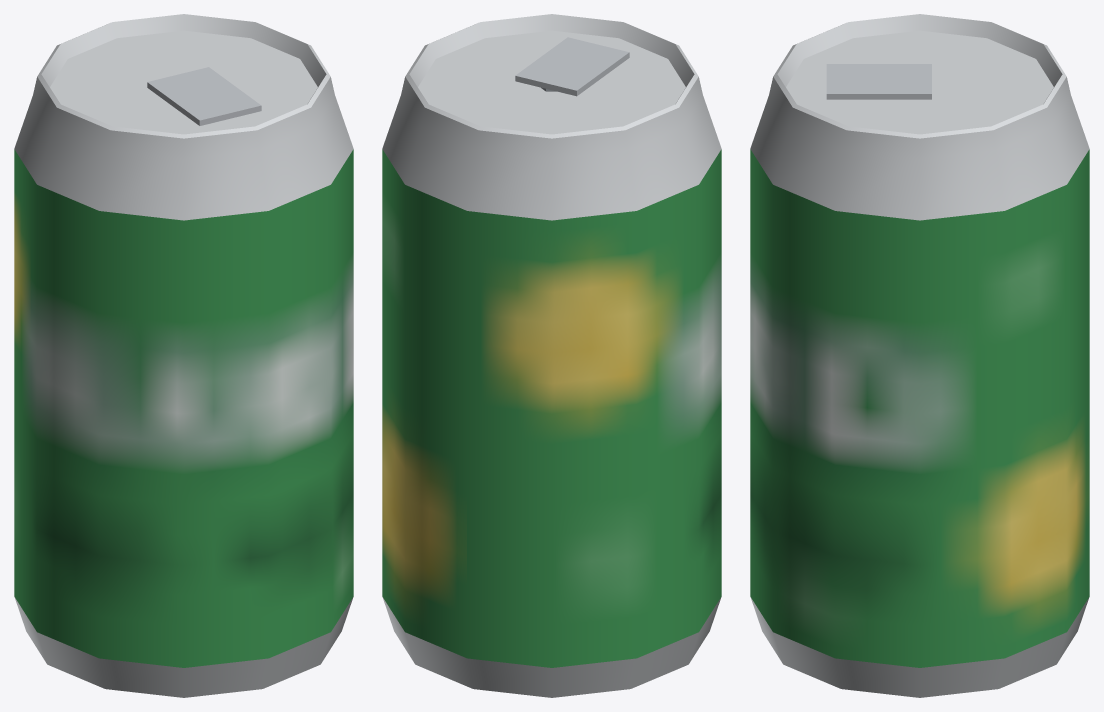
Rendered from SC_Prod_Cider_Can.gltf.
3 renders of one model, left to right at view 1: azimuth 30°, elevation 25°; view 2: azimuth 150°, elevation 25°; view 3: azimuth 270°, elevation 25°, orthographic.
Parts seen in each view (by area): view 1: SC_Prod_Cider_Can; view 2: SC_Prod_Cider_Can; view 3: SC_Prod_Cider_Can.
Part boxes in pixels (x1,y1,x2,y2): SC_Prod_Cider_Can: [14, 14, 353, 697]; SC_Prod_Cider_Can: [382, 14, 721, 697]; SC_Prod_Cider_Can: [750, 14, 1089, 697].
Bounding box in the file's own units: 0.066 × 0.122 × 0.066.
2 materials, 2 textured.
